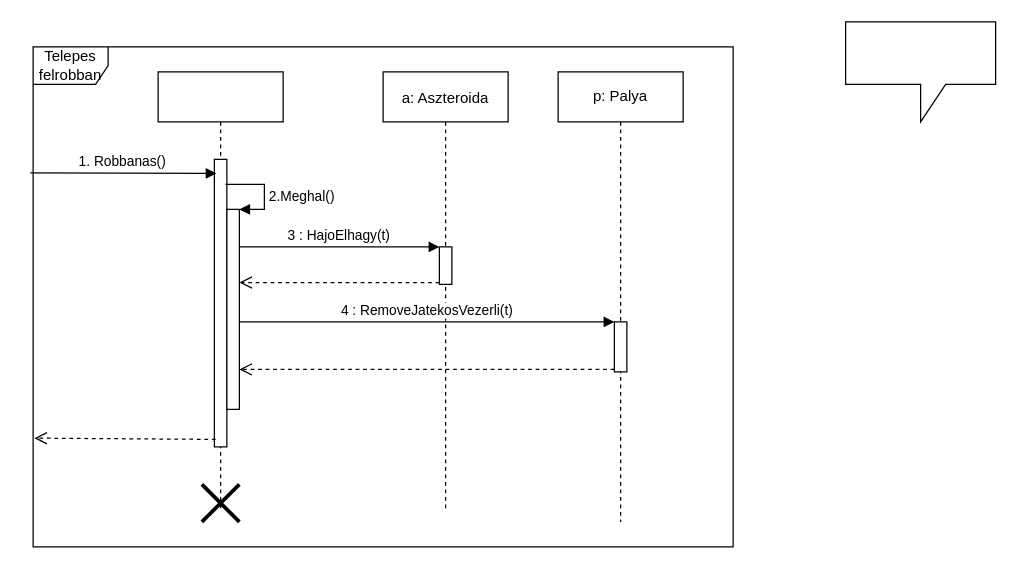
This 1019x569 diagram has some shape labels left out. Here are the shapes that lost their labels. From the top down, the box of each, then its label:
(844, 21, 996, 122): nem kell
(157, 71, 283, 509): t: Telepes
